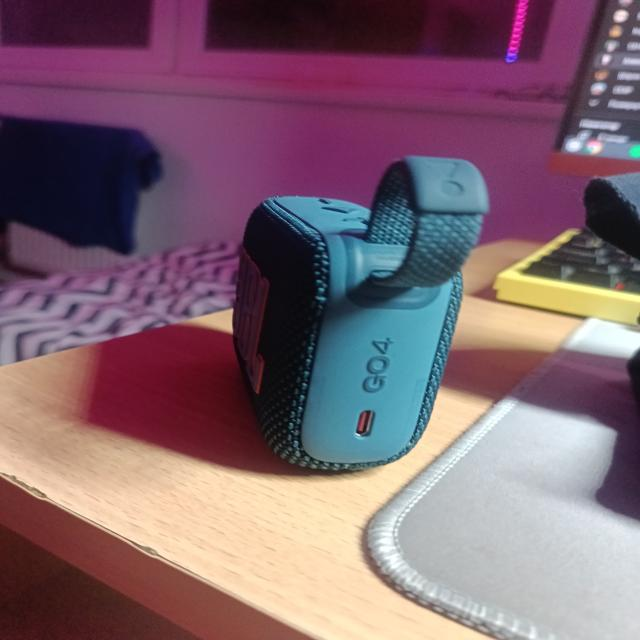column JBL: (233, 157, 486, 470)
